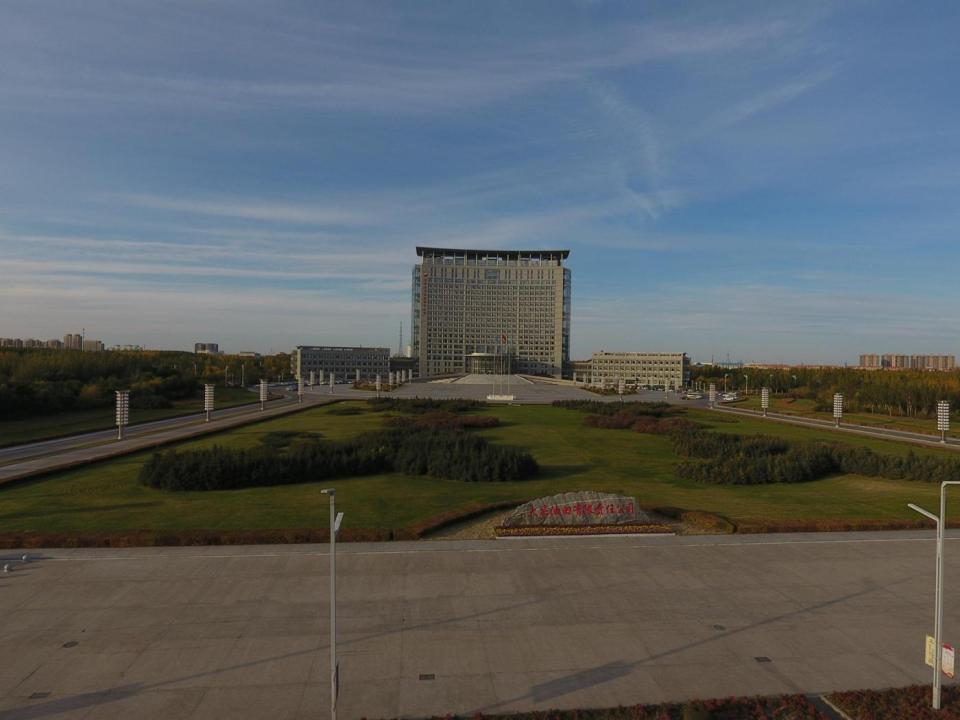bus: (687, 392, 703, 399)
car: (723, 396, 734, 401), (287, 386, 296, 392), (688, 395, 696, 400), (291, 388, 300, 392), (679, 397, 690, 400)
